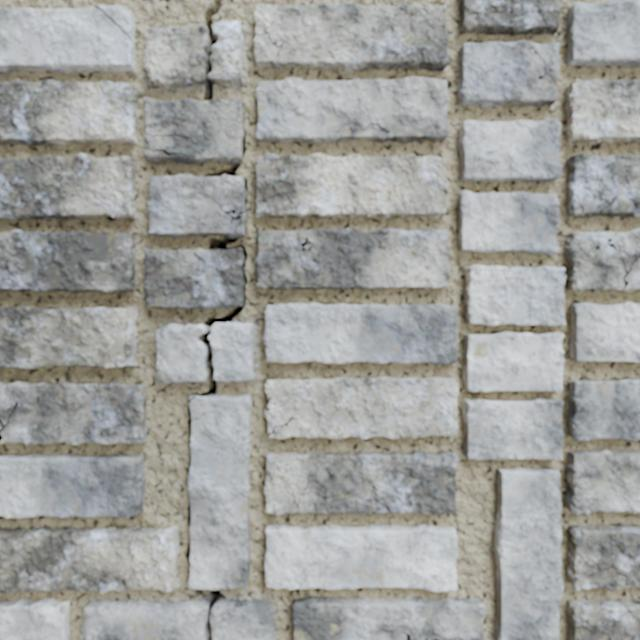broken_brick: (81, 600, 207, 639), (144, 24, 206, 88), (156, 323, 205, 382), (209, 322, 254, 380), (210, 598, 273, 639), (208, 20, 243, 83)
crack: (143, 0, 251, 639), (465, 228, 639, 327), (254, 3, 449, 71), (264, 524, 457, 592), (255, 77, 449, 143), (254, 153, 448, 218), (264, 450, 457, 515), (264, 376, 458, 440), (0, 525, 179, 594), (255, 228, 449, 289), (263, 303, 457, 364), (494, 468, 563, 639), (0, 454, 145, 518), (0, 5, 135, 73), (0, 382, 147, 444), (0, 79, 138, 145), (0, 153, 136, 219), (0, 229, 136, 292), (0, 307, 137, 368), (293, 596, 485, 639), (457, 40, 559, 107), (458, 191, 559, 254), (459, 119, 561, 181), (462, 398, 563, 460), (463, 331, 564, 391), (566, 523, 639, 591), (565, 449, 639, 515), (567, 0, 639, 66), (566, 79, 639, 143), (567, 153, 639, 217), (567, 379, 639, 441), (569, 302, 639, 363), (459, 0, 560, 35), (567, 599, 639, 639), (0, 598, 70, 639)
